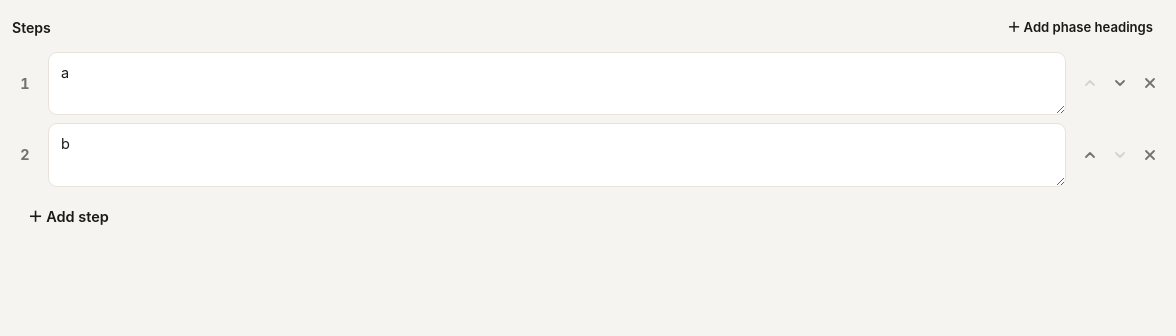
StepRows › heading inputs are hidden until asked for
The image size is (1176, 336).
Click the button with class "titles-on": (1080, 28) [996,12,1164,44]
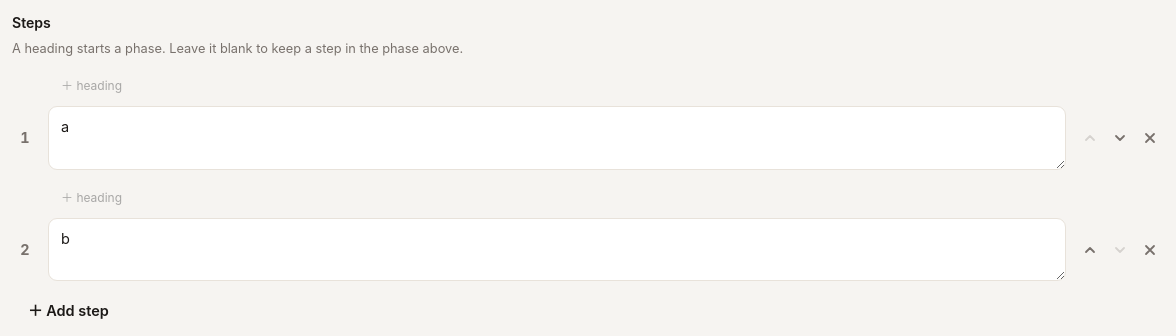
Expected: the number of fields with class "title-in" is 2, [48,74,1164,98]; [48,186,1164,210]
